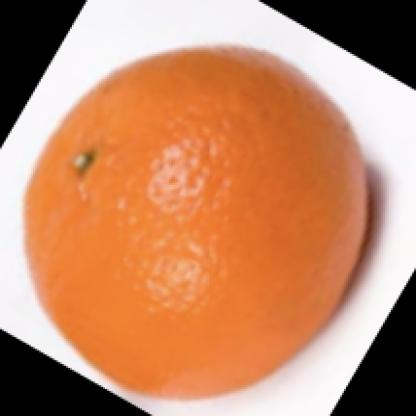fresh: (22, 44, 371, 402)
